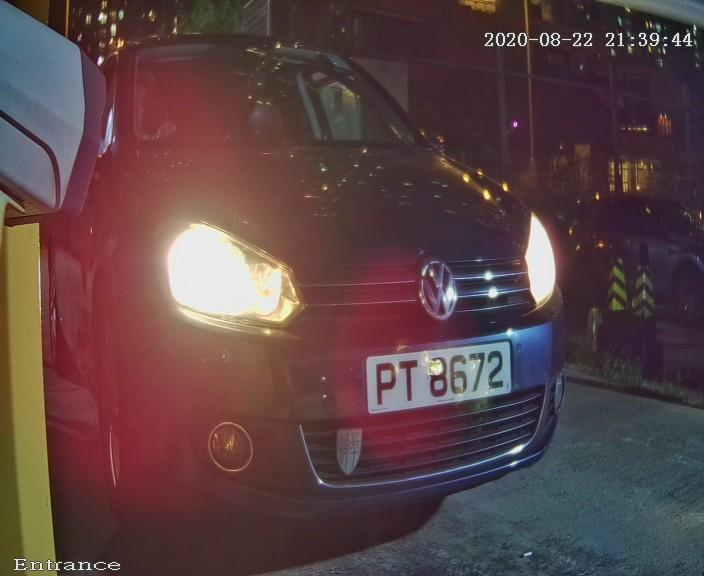Car: (1, 21, 635, 571)
License Plate: (331, 313, 530, 443)
